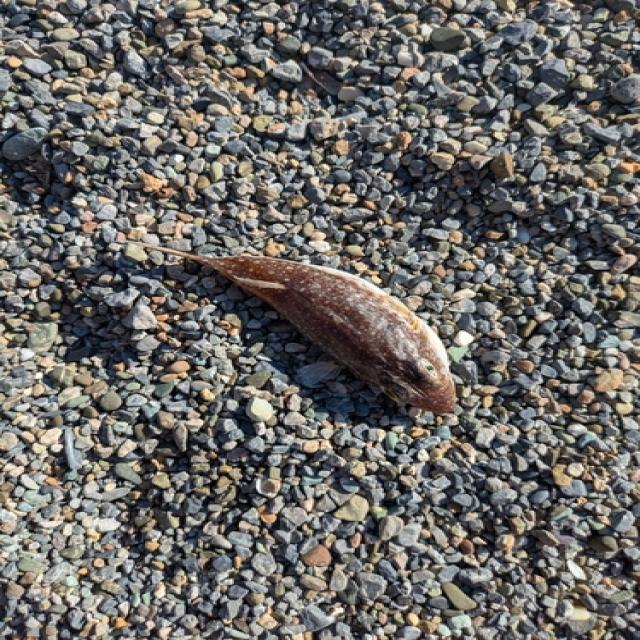Balik: (128, 241, 455, 413)
